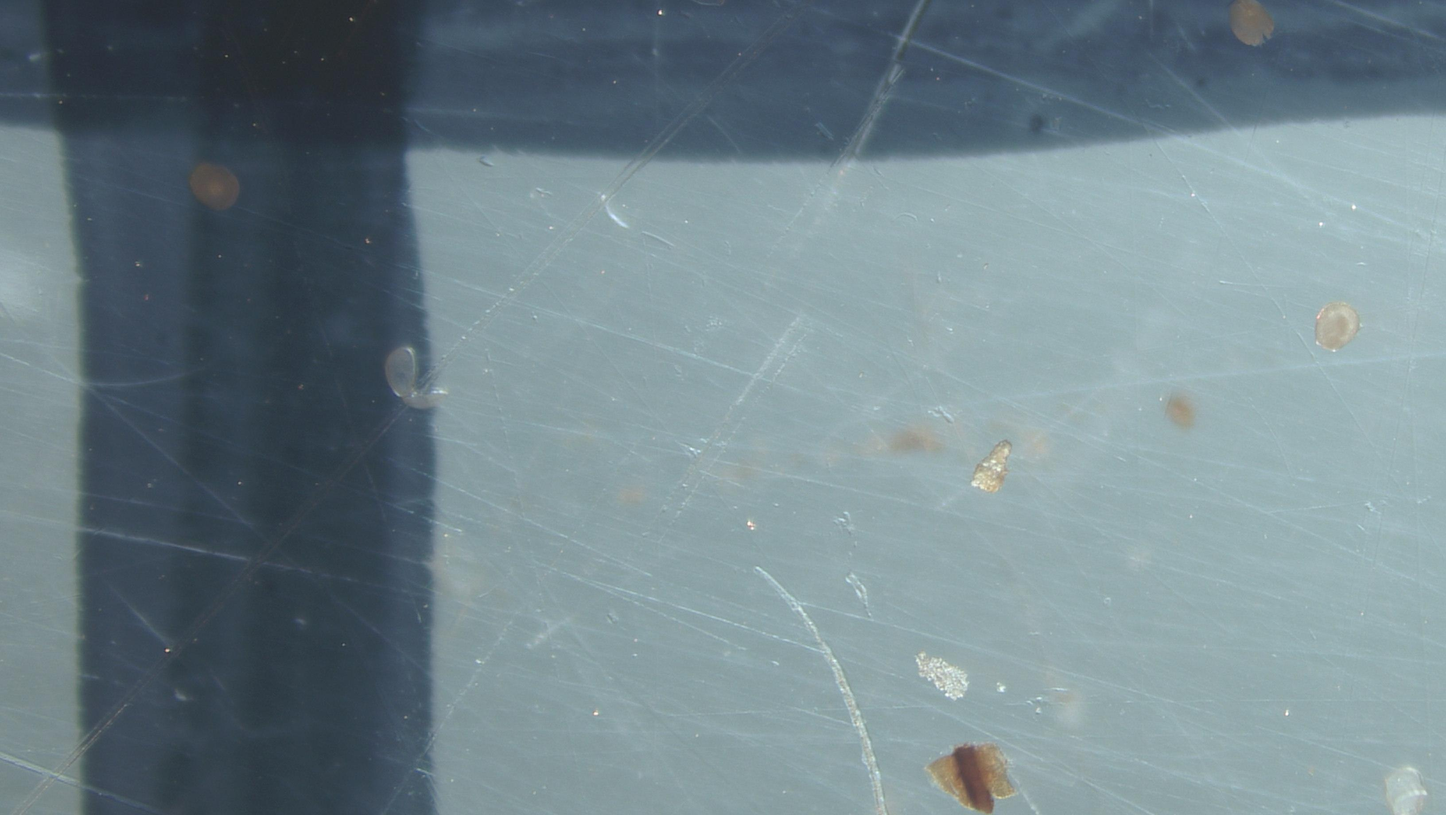live: (190, 163, 239, 211), (1315, 303, 1360, 352), (1231, 0, 1274, 46)
